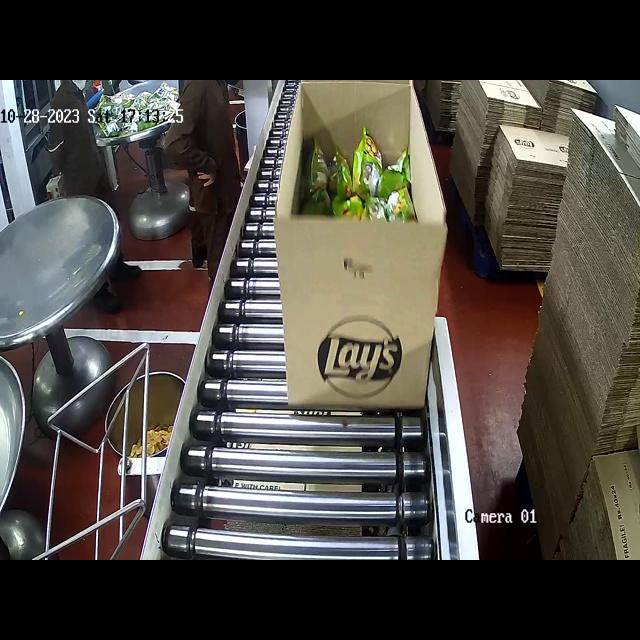yogurt: (307, 123, 422, 233)
